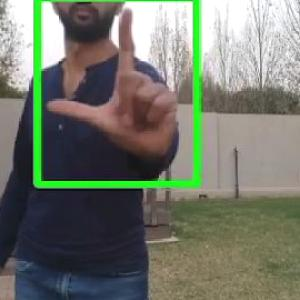land_hand: (48, 5, 181, 166)
